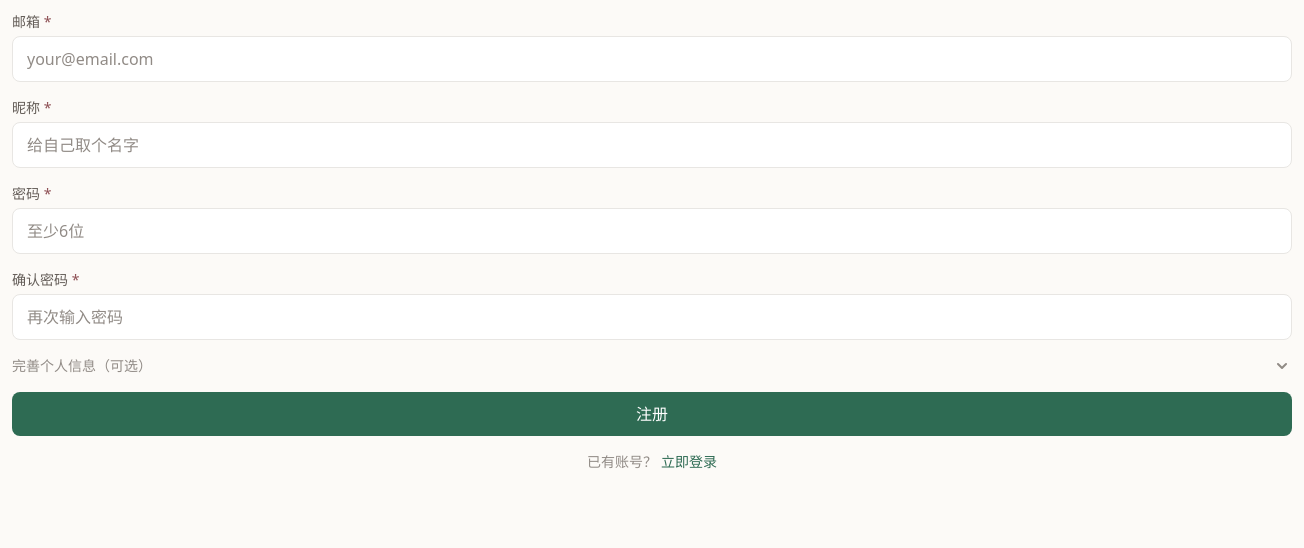
Test: RegisterForm › shows error when nickname is too short
The width and height of the screenshot is (1304, 548).
Type "test@test.com" into the field labelled "邮箱 *". click: (652, 59)
box: [12,36,1292,82]
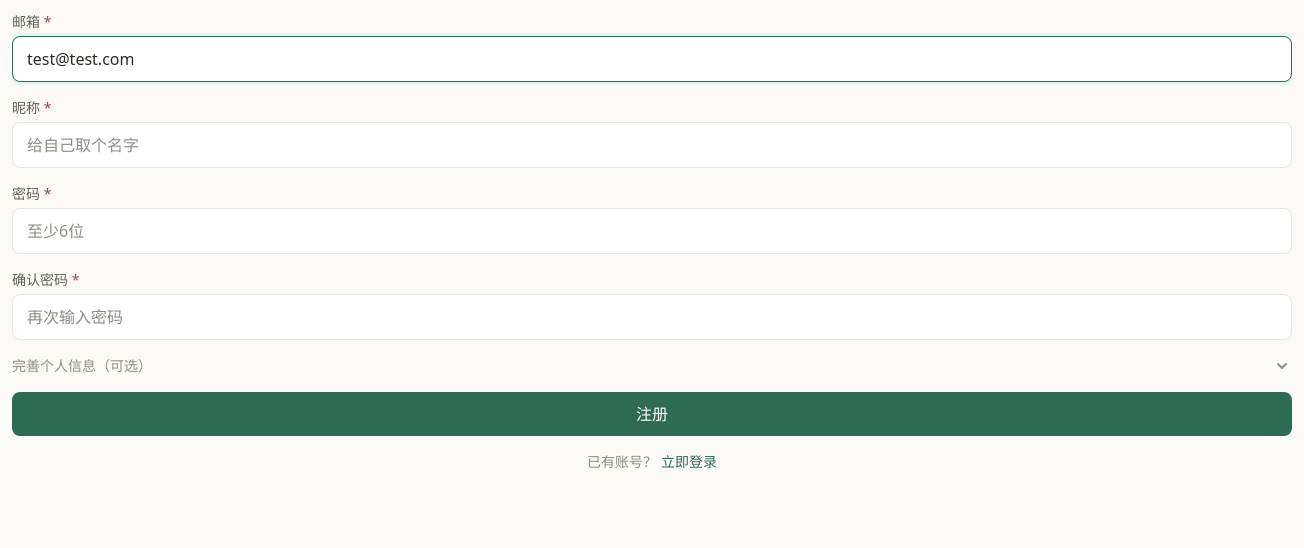
Type "A" into the field labelled "昵称 *". click: (652, 145)
box: [12,122,1292,168]
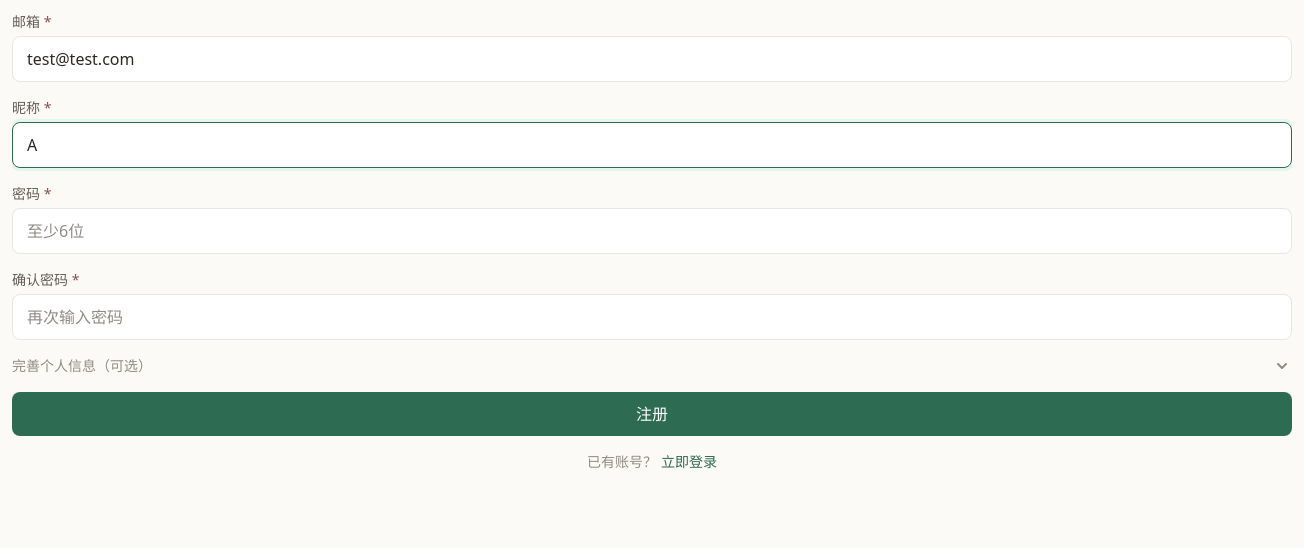
Type "123456" into the password field with placeholder "至少6位". click: (652, 231)
box: [12,208,1292,254]
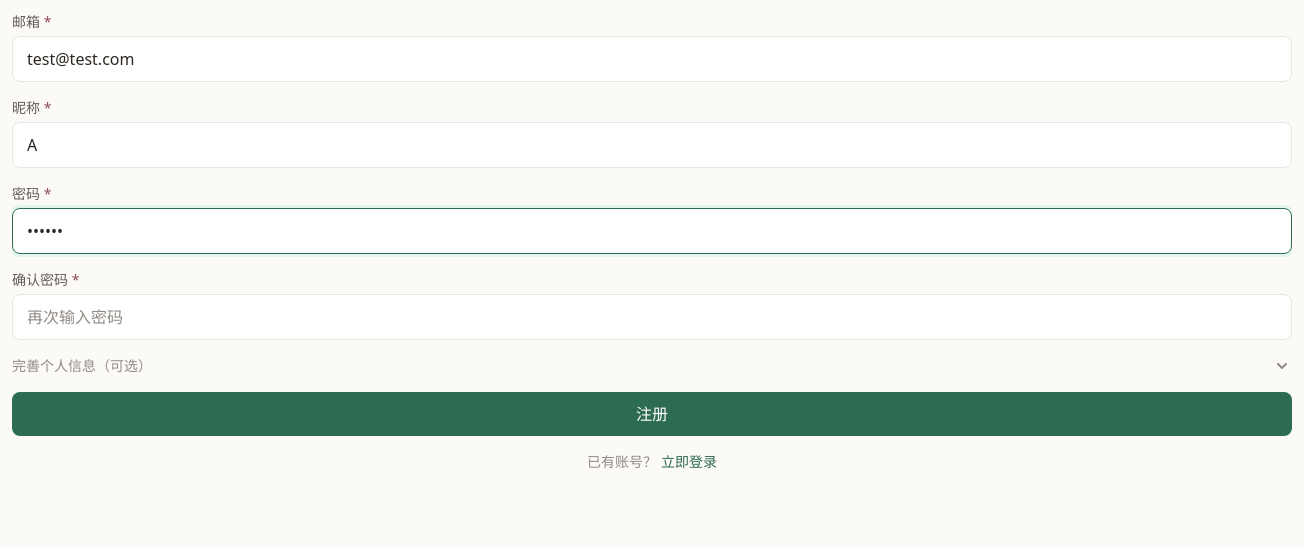
Type "123456" into the password field with placeholder "再次输入密码". click: (652, 317)
box: [12,294,1292,340]
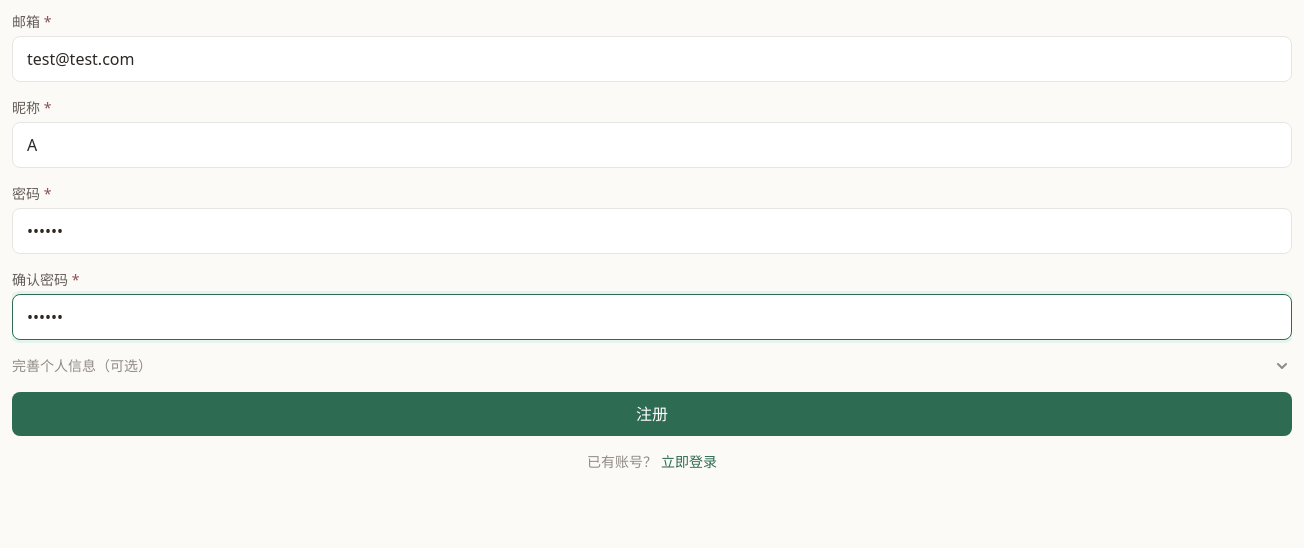
Click the button "注册". click: (652, 414)
box: [12,392,1292,436]
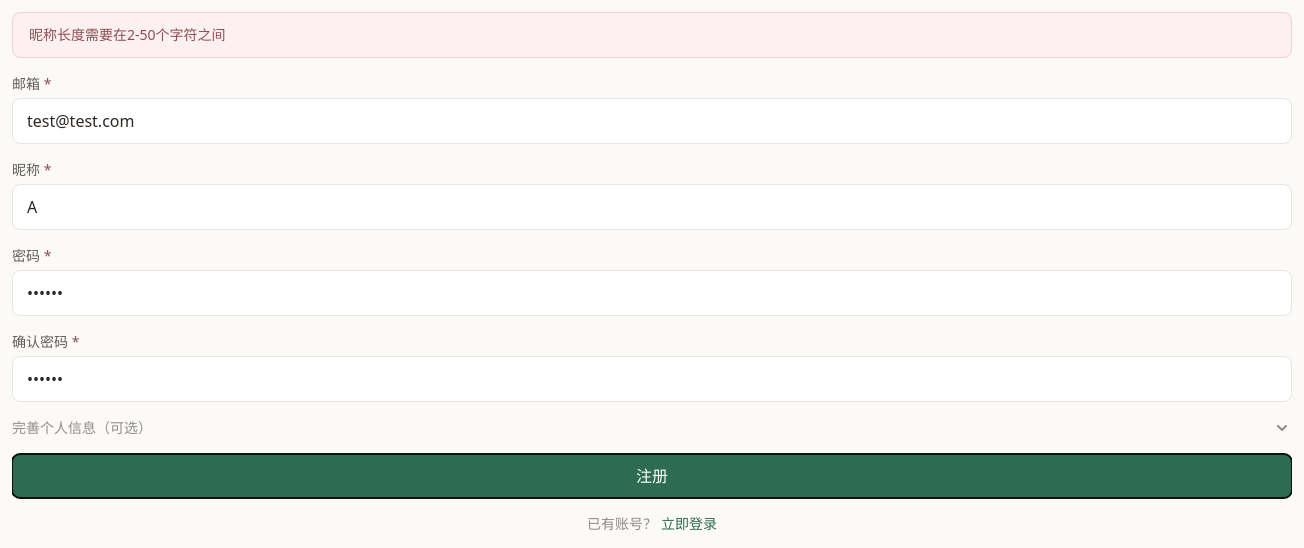
expect the text "昵称长度需要在2-50个字符之间" is shown: met, box [12,12,1292,58]
